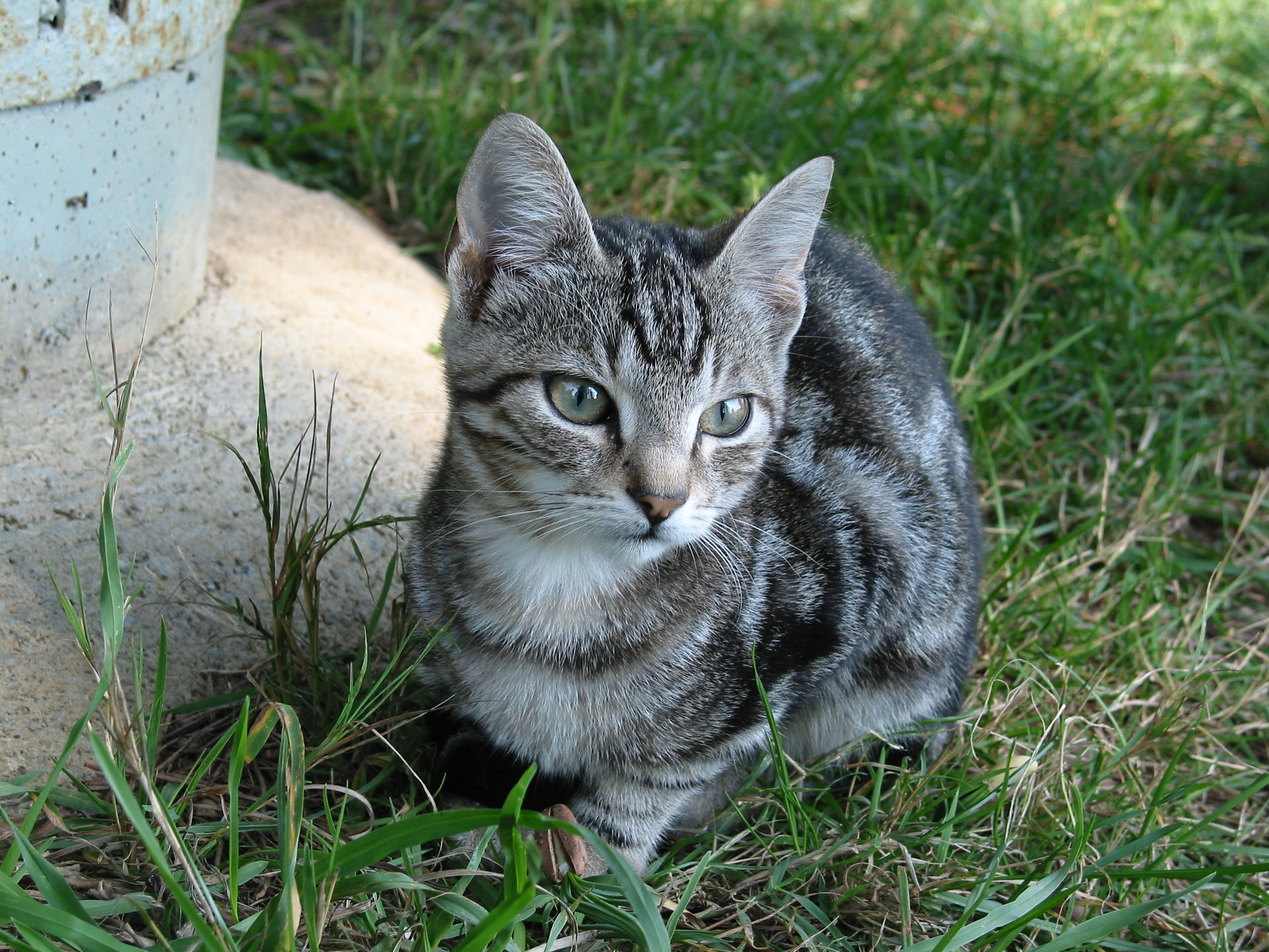cat: (393, 108, 990, 882)
